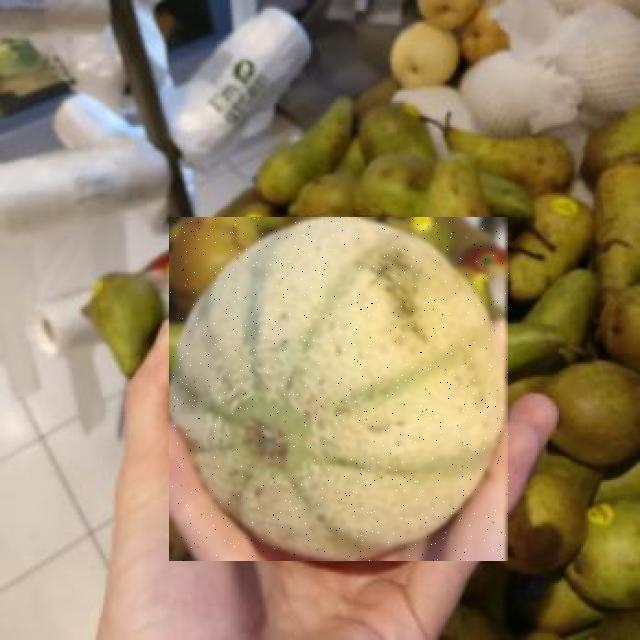Cantaloupe: (170, 217, 510, 561)
